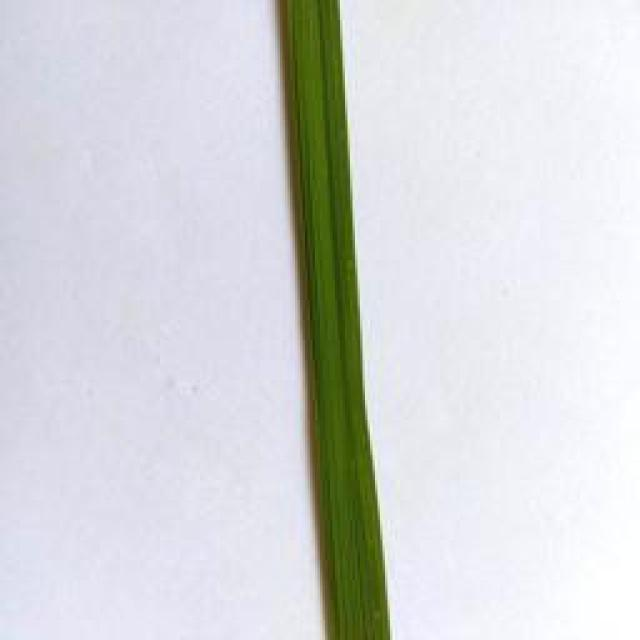Healthy-Plant: (278, 0, 393, 640)
